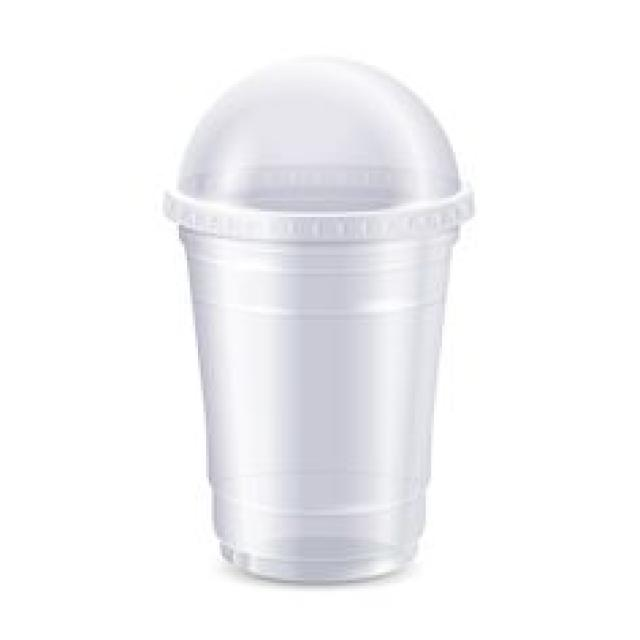bottle: (182, 229, 456, 581)
